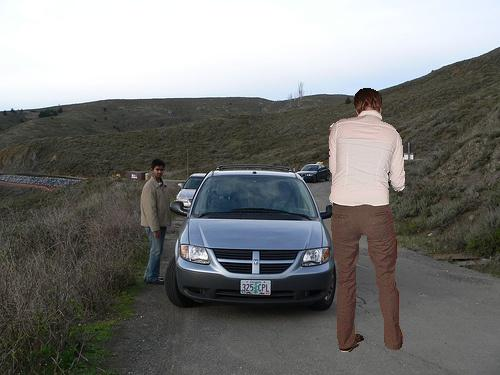tampered: (329, 89, 405, 352)
